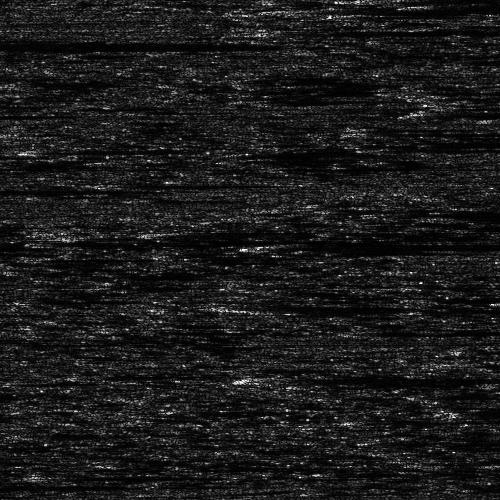rock: (89, 226, 234, 237), (185, 303, 268, 312), (234, 29, 327, 36), (249, 372, 290, 385), (401, 108, 454, 117), (16, 471, 79, 478), (5, 146, 68, 153), (271, 3, 312, 12), (11, 237, 52, 244), (81, 180, 134, 185), (489, 258, 500, 269), (260, 242, 291, 245)
shadow: (162, 226, 447, 237), (270, 372, 498, 385), (227, 303, 500, 312), (292, 3, 500, 12), (0, 40, 186, 47), (281, 29, 456, 36), (48, 471, 207, 478), (37, 146, 190, 153), (108, 180, 266, 185), (0, 483, 99, 490), (276, 242, 500, 245), (428, 108, 500, 117), (32, 237, 108, 244), (0, 188, 145, 191)
